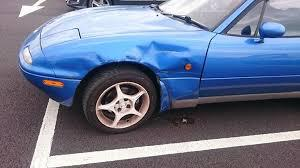fender-dent: (137, 32, 202, 111)
